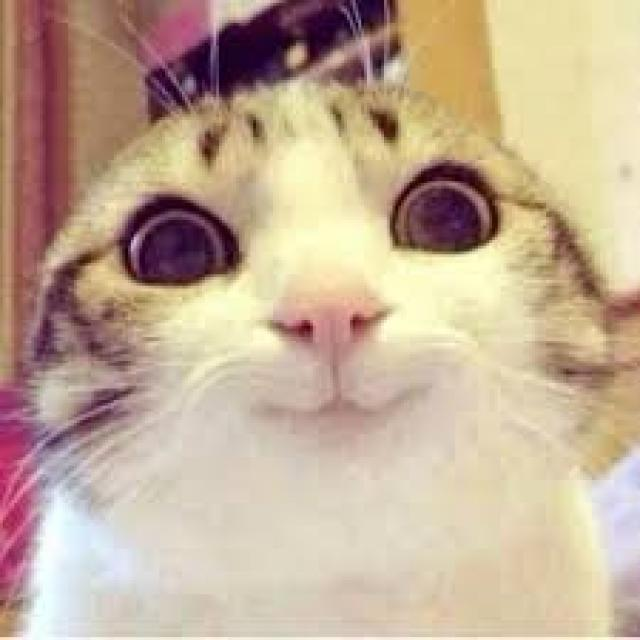Happy: (75, 142, 552, 469)
